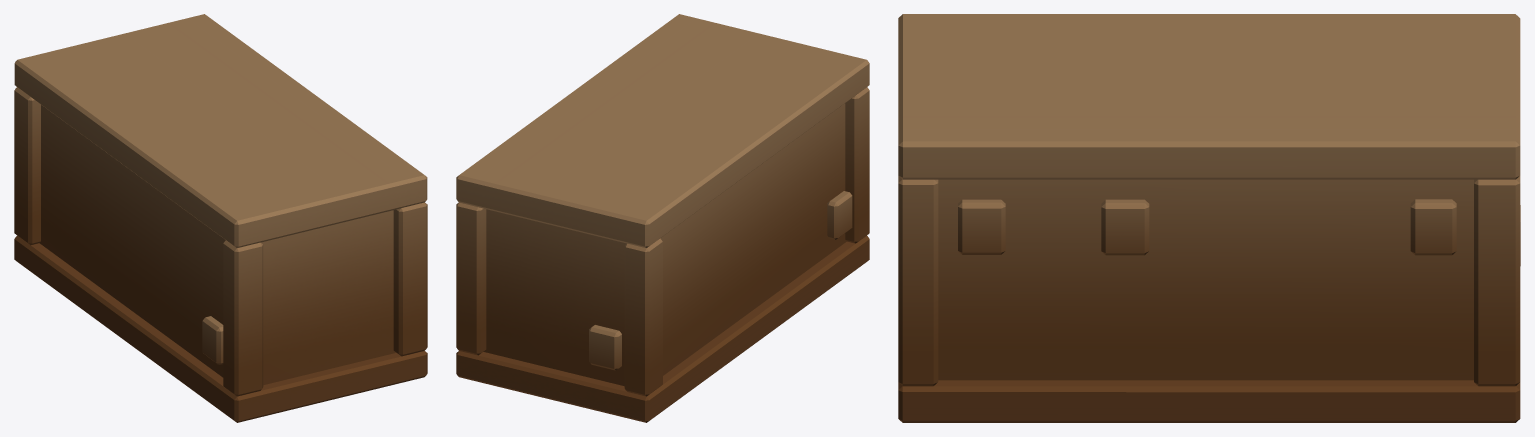
Rendered from SM_Clay_Body_06.fbx.
3 renders of one model, left to right at view 1: azimuth 30°, elevation 25°; view 2: azimuth 150°, elevation 25°; view 3: azimuth 270°, elevation 25°, orthographic. The views are drawn at different scales.
Parts seen in each view (by area): view 1: SM_Clay_Body_06; view 2: SM_Clay_Body_06; view 3: SM_Clay_Body_06.
Part boxes in pixels (<box>): SM_Clay_Body_06: <box>14,14,427,422</box>; SM_Clay_Body_06: <box>456,14,869,422</box>; SM_Clay_Body_06: <box>898,14,1520,422</box>.
Bounding box in the file's own units: 1 × 0.9984 × 2.
